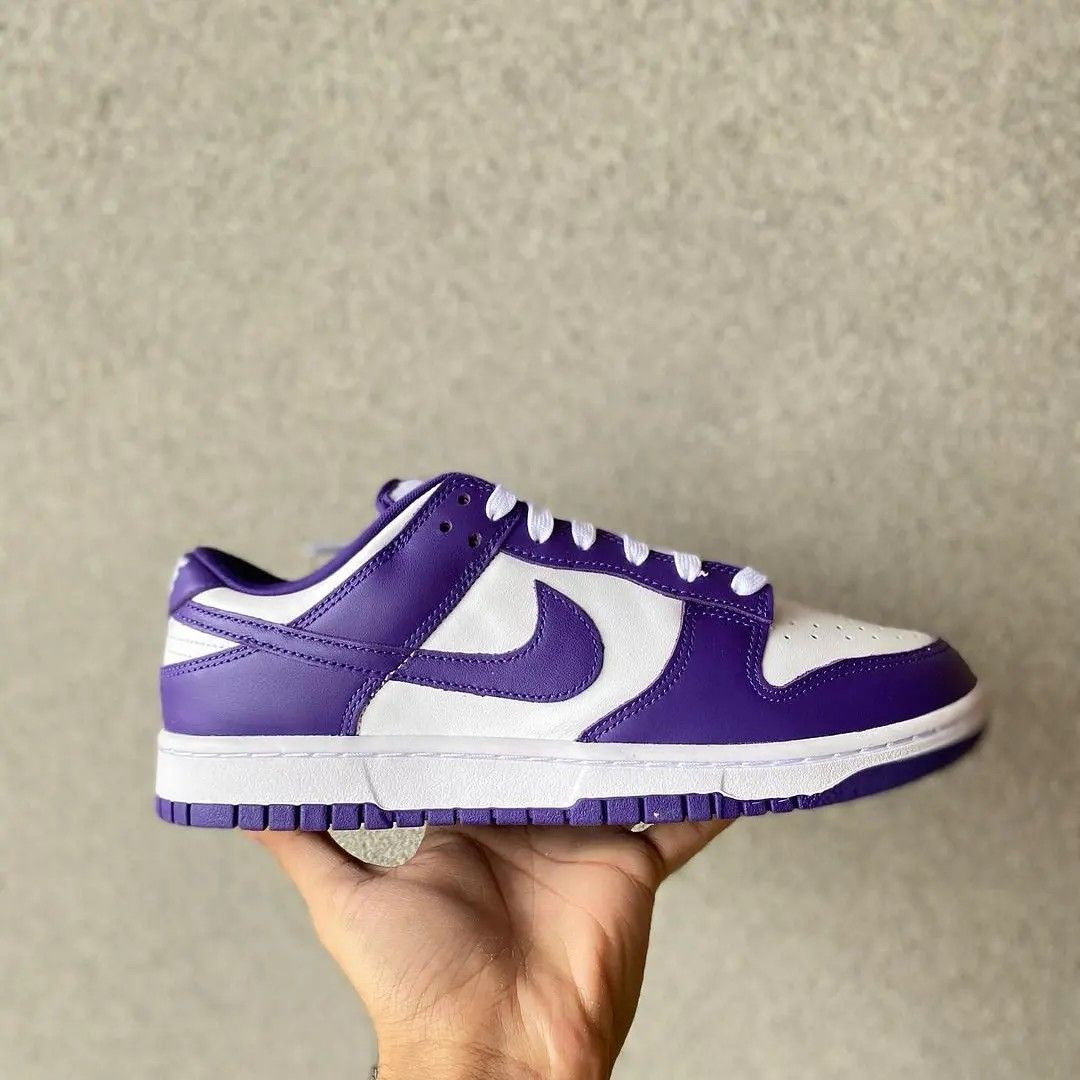nike_dunk_low_purple_court: (153, 473, 990, 830)
